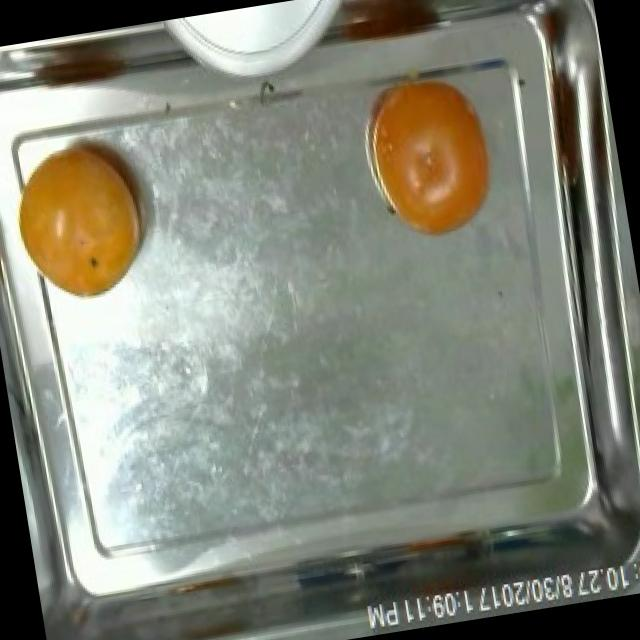Fruit: (343, 48, 514, 262), (0, 102, 168, 318)
